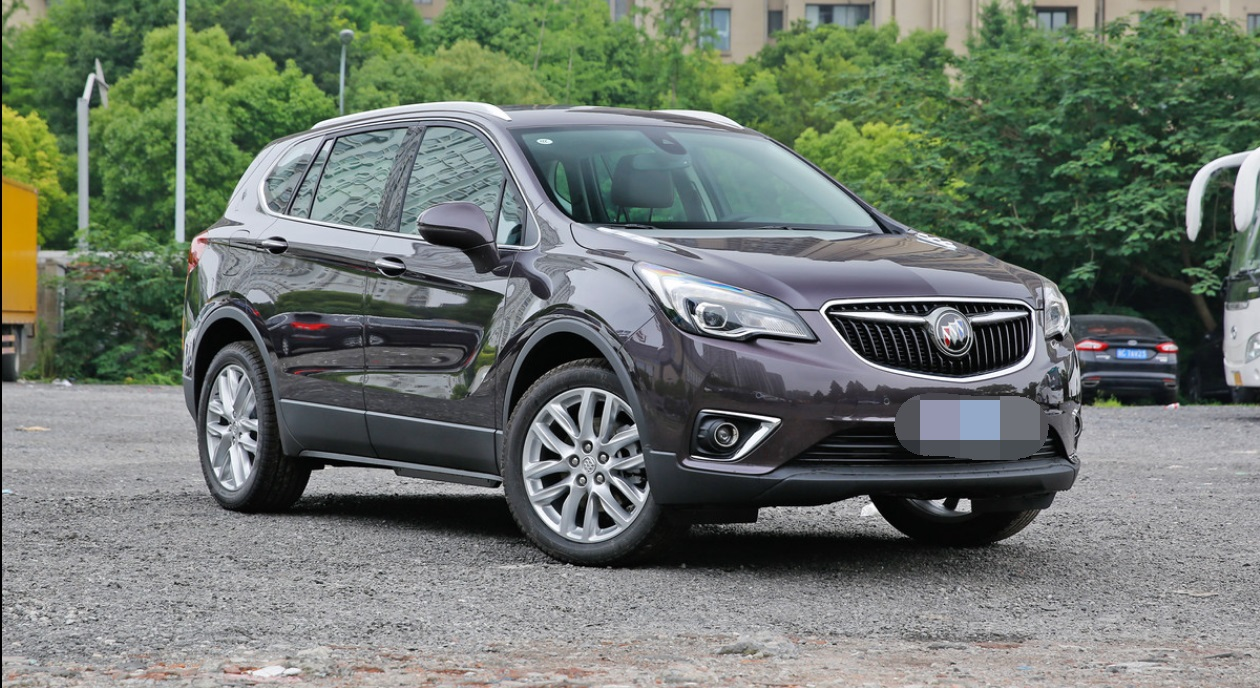SUV: (177, 95, 1092, 569)
